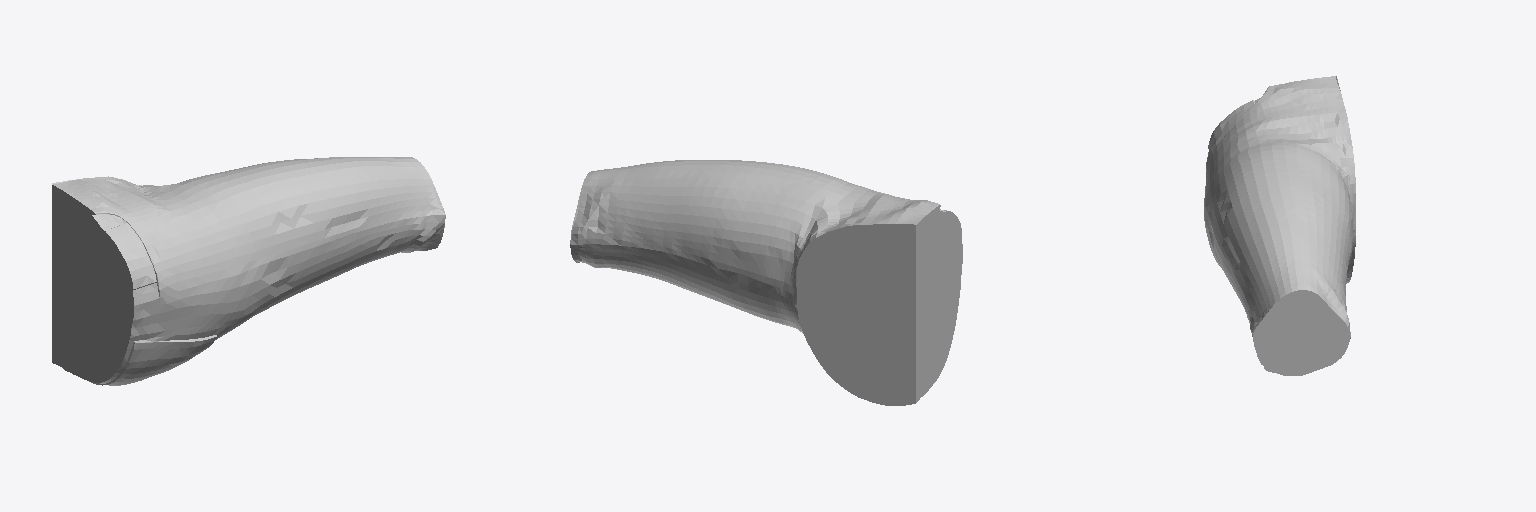
File: thigh_r.obj
3 views of the same model, side by side, from view 1: azimuth 30°, elevation 25°; view 2: azimuth 150°, elevation 25°; view 3: azimuth 270°, elevation 25° (orthographic).
Parts seen in each view (by area): view 1: thigh_r_1_Legs_UV1.014; view 2: thigh_r_1_Legs_UV1.014; view 3: thigh_r_1_Legs_UV1.014.
Boxes of the visible parts, box(x1,y1,x2,y2) form: thigh_r_1_Legs_UV1.014: box(52, 157, 445, 385); thigh_r_1_Legs_UV1.014: box(570, 160, 962, 405); thigh_r_1_Legs_UV1.014: box(1204, 76, 1355, 375).
Size of the model in its own units: 0.4394 by 0.2264 by 0.1647.